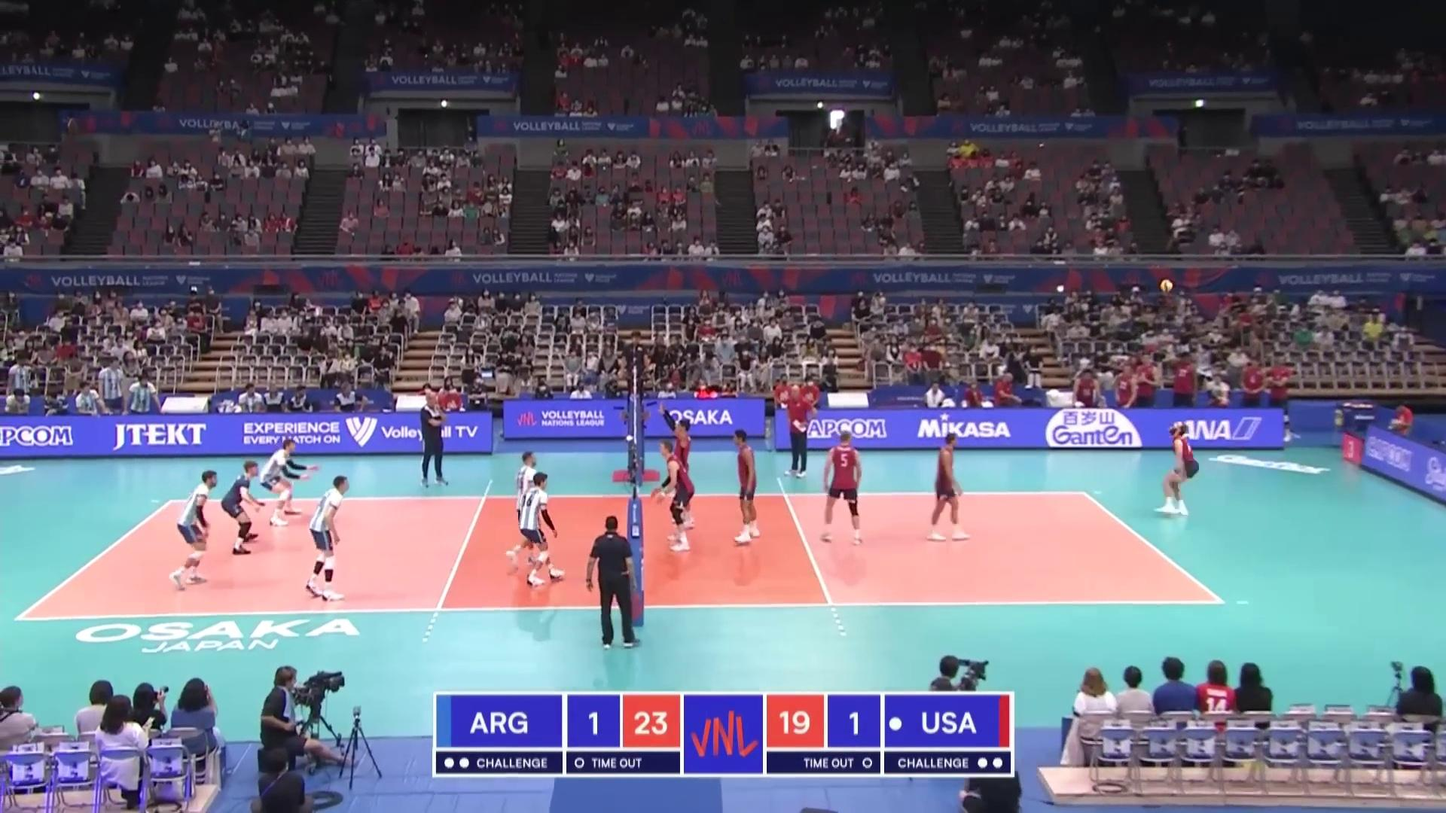player: (170, 469, 221, 589), (305, 478, 351, 600), (521, 473, 564, 589), (819, 433, 863, 545), (508, 452, 547, 569), (260, 440, 311, 523), (1156, 421, 1200, 517), (657, 442, 694, 554), (930, 432, 968, 540), (663, 412, 697, 529), (221, 461, 264, 553), (729, 428, 761, 542)
refree: (592, 516, 638, 652), (624, 333, 647, 410)
